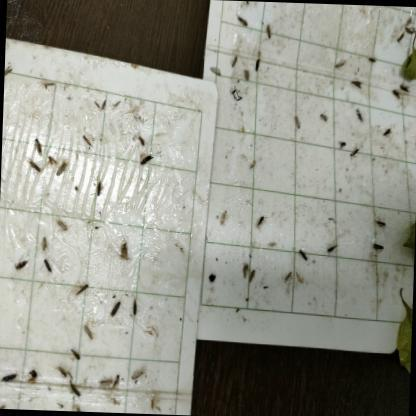prays_oleae: (76, 308, 98, 344), (125, 357, 152, 385), (118, 235, 132, 277), (53, 215, 74, 243), (26, 155, 46, 178), (29, 134, 44, 160), (234, 12, 251, 34), (54, 361, 70, 384), (10, 257, 30, 274), (370, 236, 386, 257), (55, 158, 70, 180), (2, 368, 18, 388), (291, 110, 303, 136), (346, 144, 362, 163), (298, 247, 311, 270), (238, 261, 251, 284), (40, 258, 54, 279), (348, 73, 364, 91), (68, 348, 83, 367), (72, 284, 92, 298), (355, 101, 365, 129), (109, 302, 122, 323), (67, 381, 83, 398), (324, 240, 339, 258), (138, 156, 157, 170), (44, 155, 58, 174), (113, 365, 122, 393), (336, 137, 348, 158), (93, 176, 104, 198), (248, 264, 258, 288), (243, 64, 252, 88), (317, 110, 330, 126), (38, 235, 50, 252), (230, 49, 240, 69), (257, 214, 268, 232), (375, 214, 387, 229), (130, 296, 139, 316), (400, 80, 412, 95), (254, 59, 264, 76), (382, 125, 393, 140), (390, 86, 400, 102), (366, 54, 376, 68)
